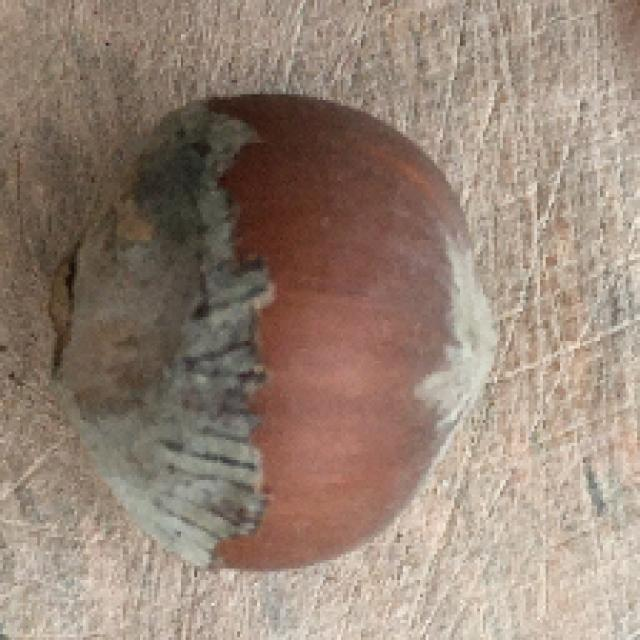damagedHazelnut: (48, 86, 509, 587)
